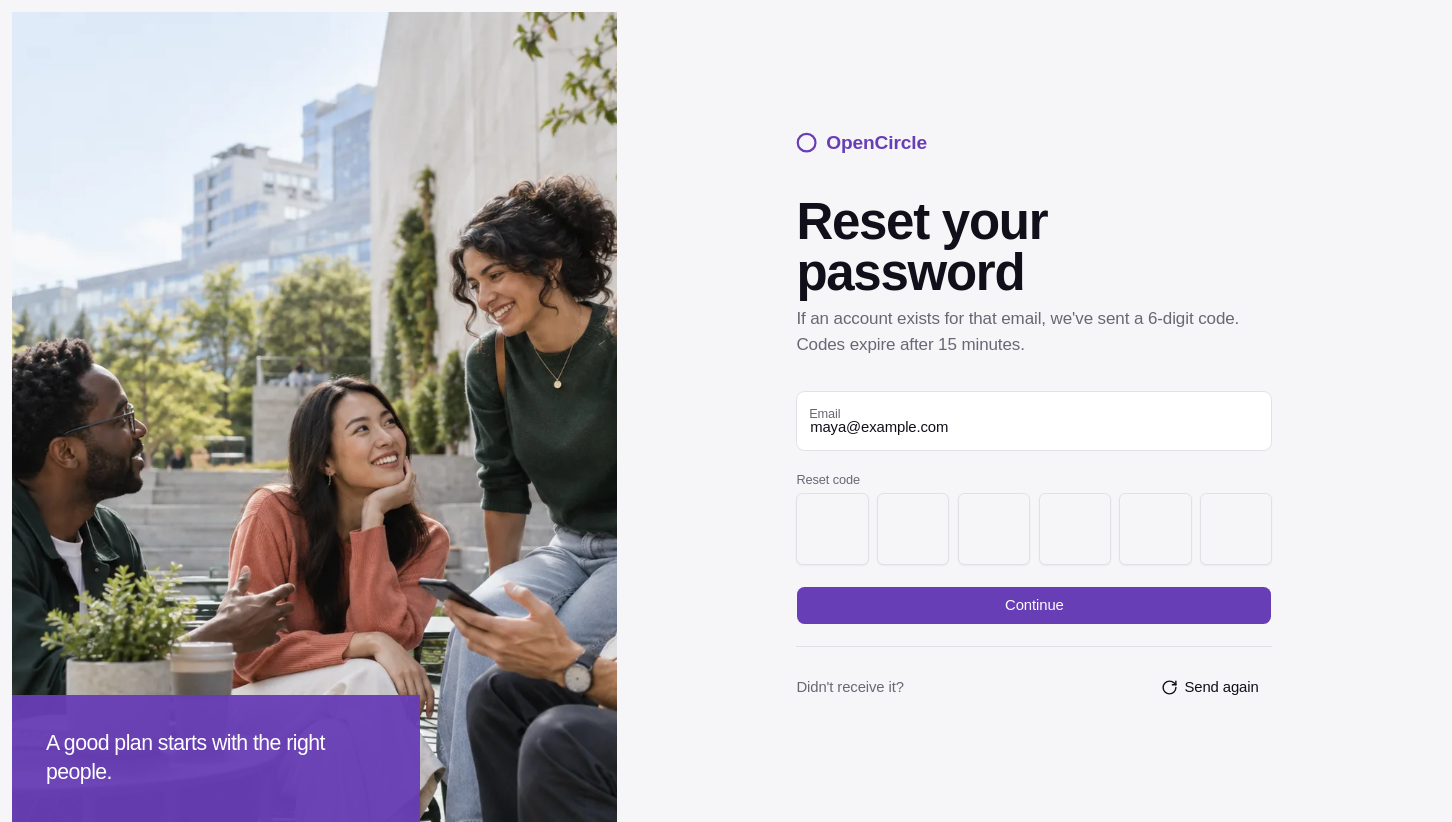
it: ResetPasswordPage › resends the code to the editable email and starts a cooldown
Click the button "Send again" at (1210,687), box [1147,668,1272,706]
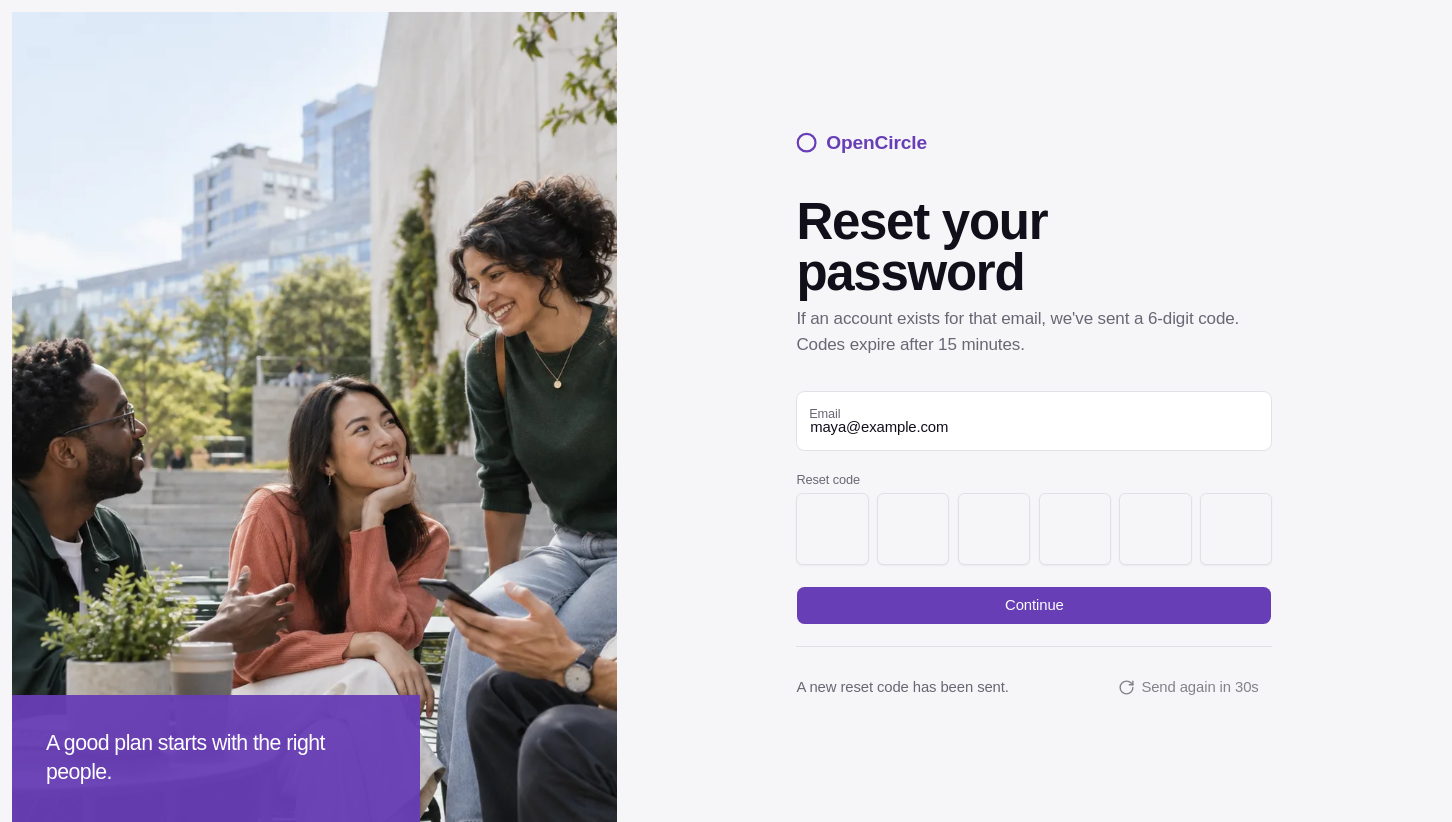
Now the text "A new reset code has been sent." is shown, box [796,677,1009,698]
Now the button "Send again in 30s" is disabled, box [1104,668,1272,706]
